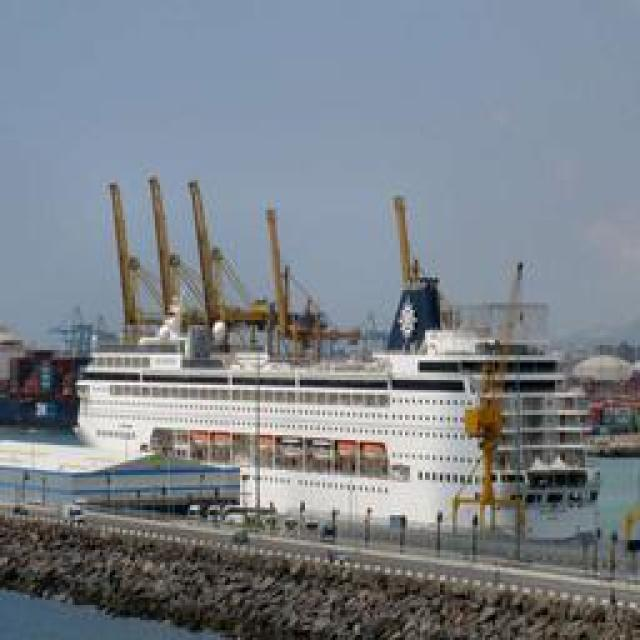CIV_Ship: (40, 178, 622, 550)
